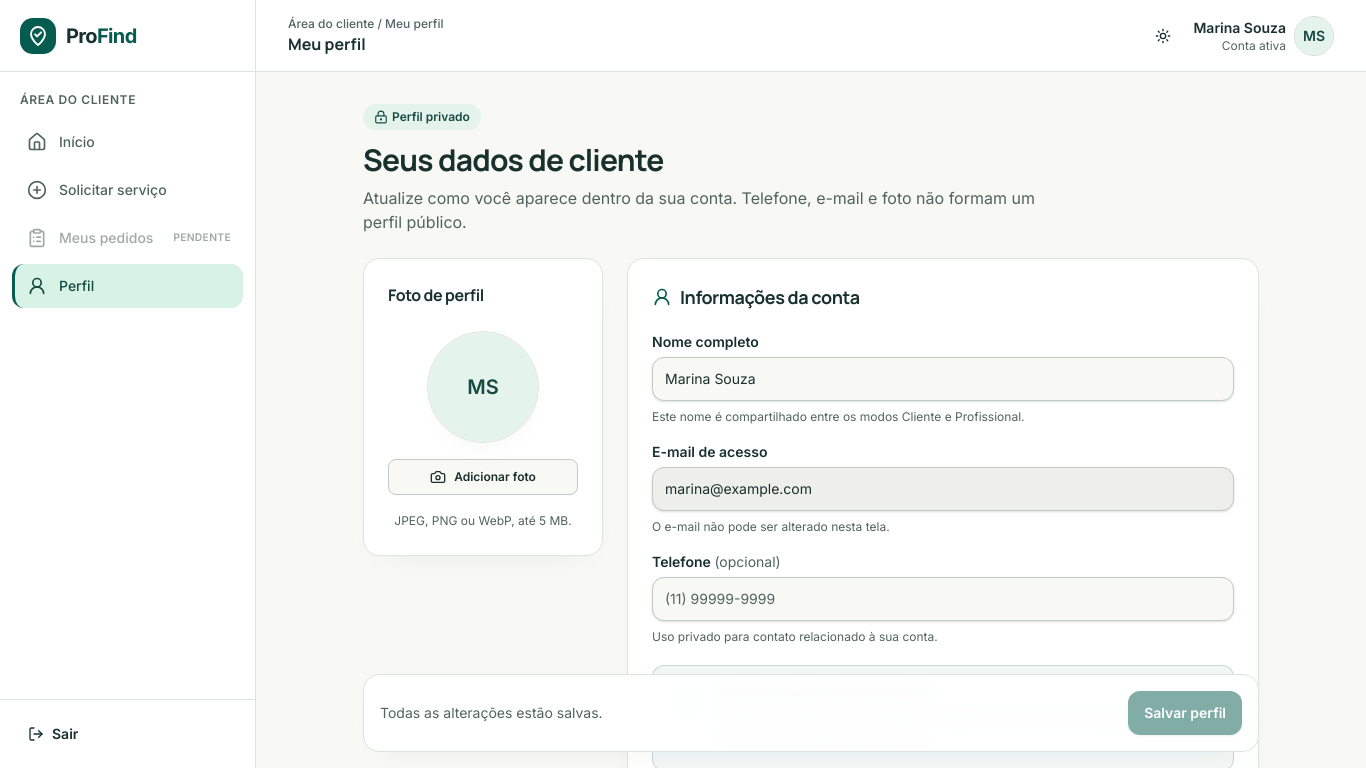
Test case: ClientProfilePage › cria o perfil, normaliza o telefone e sincroniza o cabeçalho sem recarregar
The width and height of the screenshot is (1366, 768).
Replace the text in the field labelled "Nome completo" with "Marina Santos" at (943, 379), box x1=652 y1=357 x2=1234 y2=401
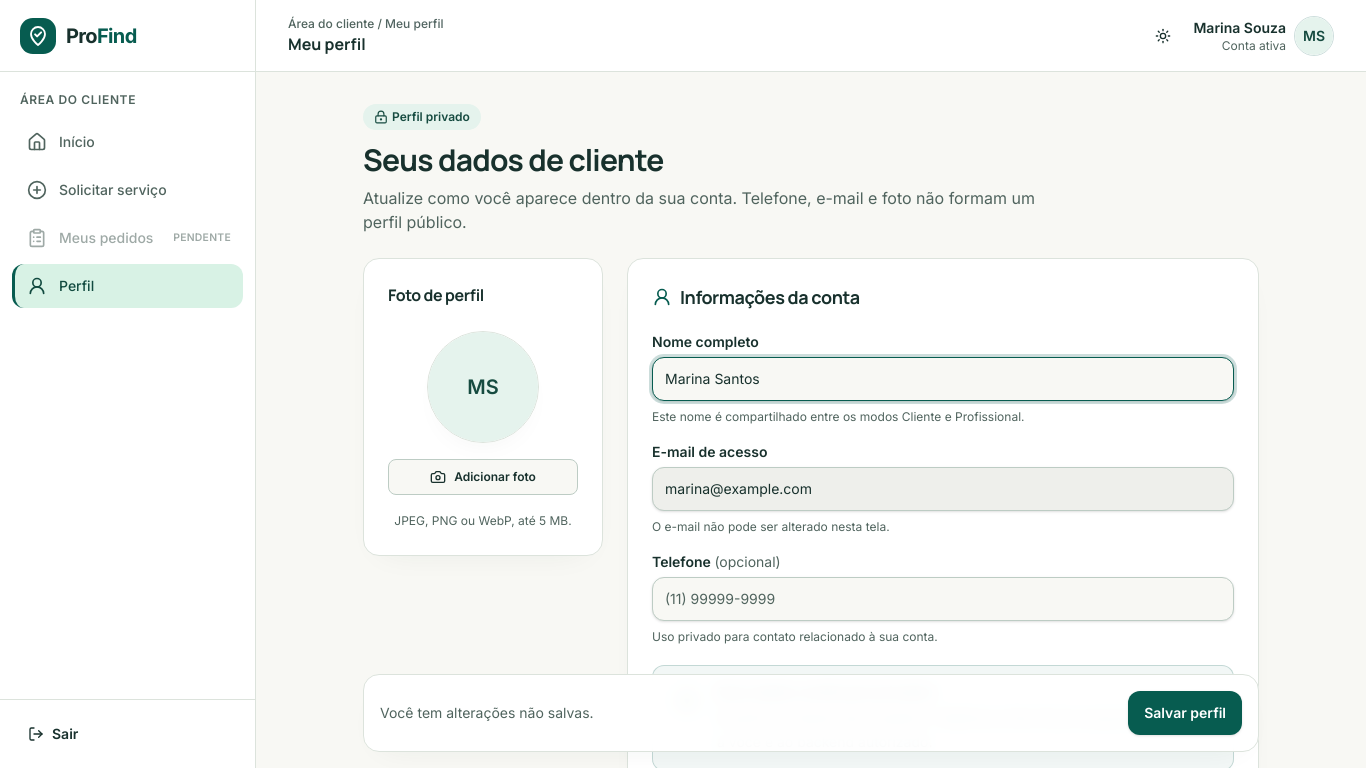
Type "11999998888" into the field labelled "Telefone (opcional)" at (943, 599), box x1=652 y1=577 x2=1234 y2=621
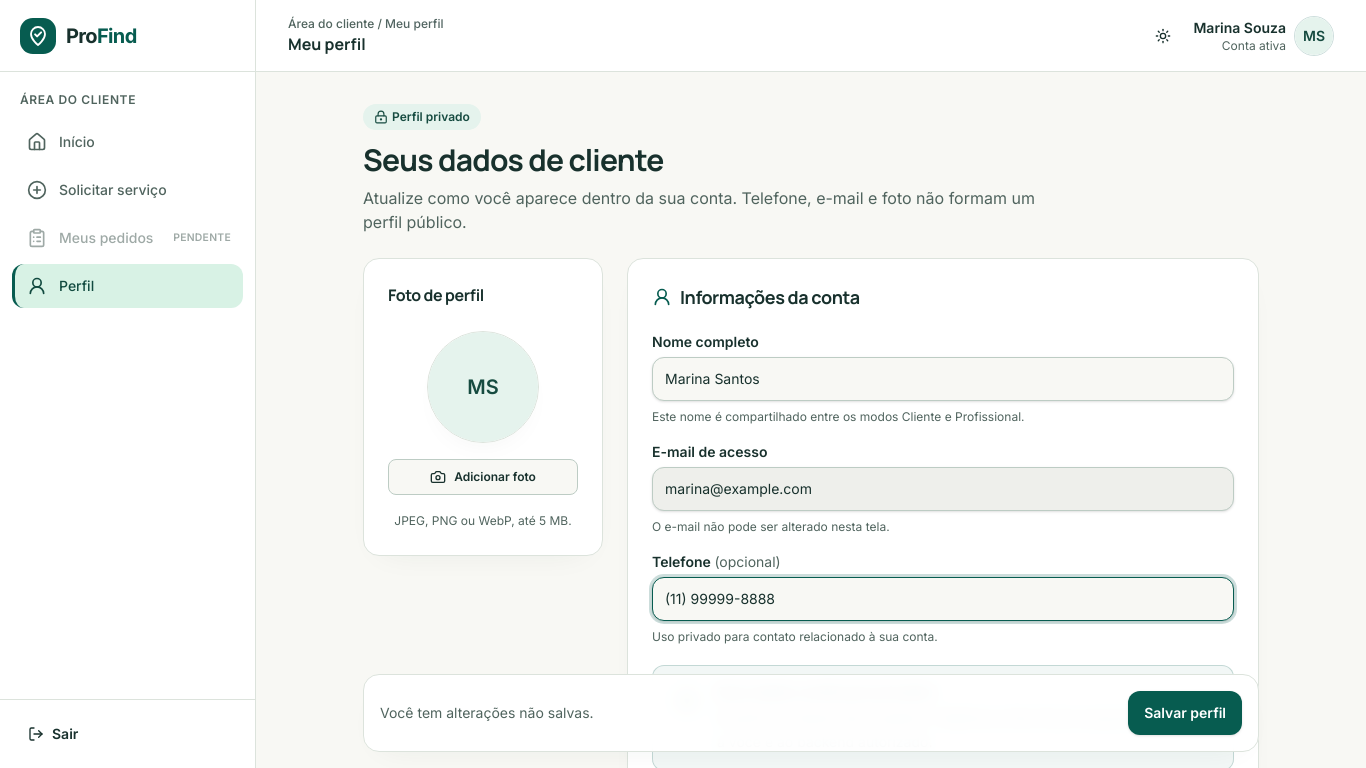
Click the button "Salvar perfil" at (1185, 713), box x1=1128 y1=691 x2=1242 y2=735
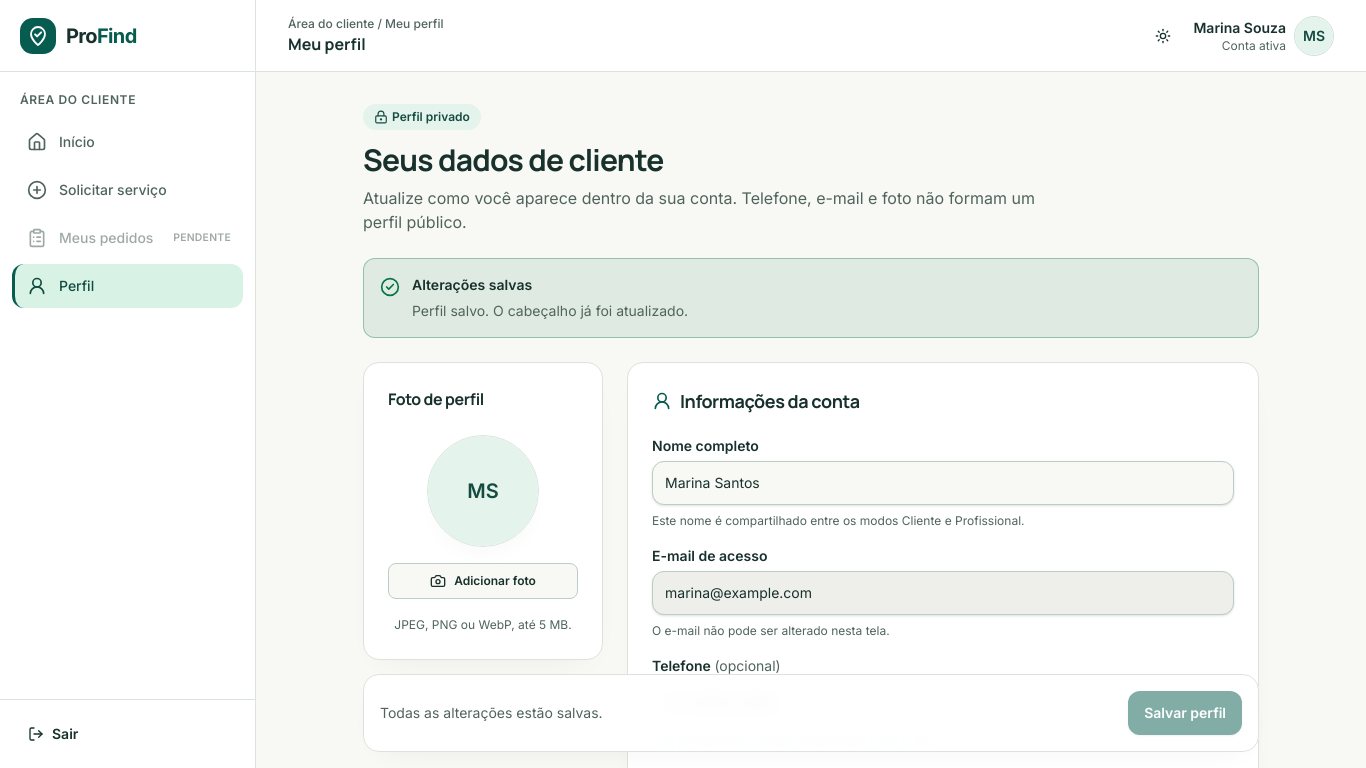
Now the text "Perfil salvo. O cabeçalho já foi atualizado." is shown, box x1=412 y1=302 x2=688 y2=319
